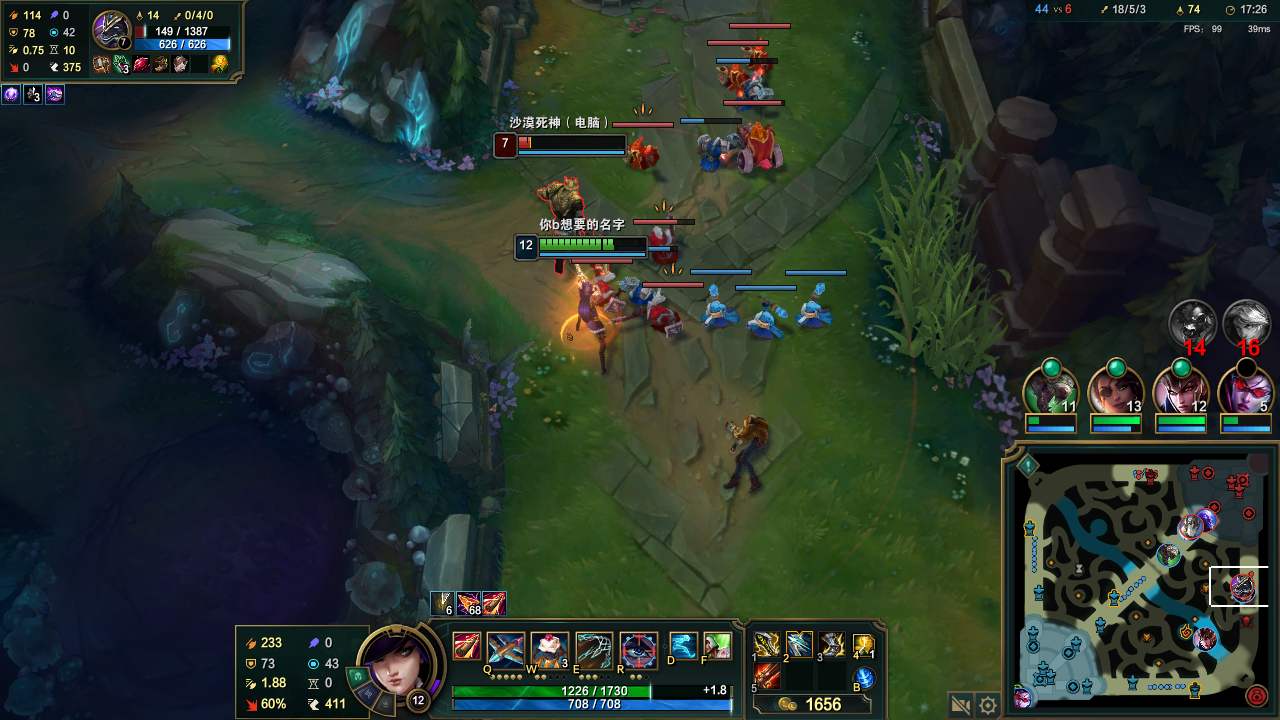DFXB: (740, 125, 785, 166), (643, 298, 688, 336), (620, 136, 657, 165), (595, 279, 623, 317), (649, 232, 678, 261), (718, 67, 743, 86), (749, 39, 772, 58)
DFYX: (514, 136, 602, 151)
KF: (785, 636, 810, 647)
WFXB: (688, 129, 732, 173), (746, 302, 787, 342), (733, 68, 773, 103), (799, 294, 827, 333), (698, 297, 730, 327), (626, 281, 649, 300)
